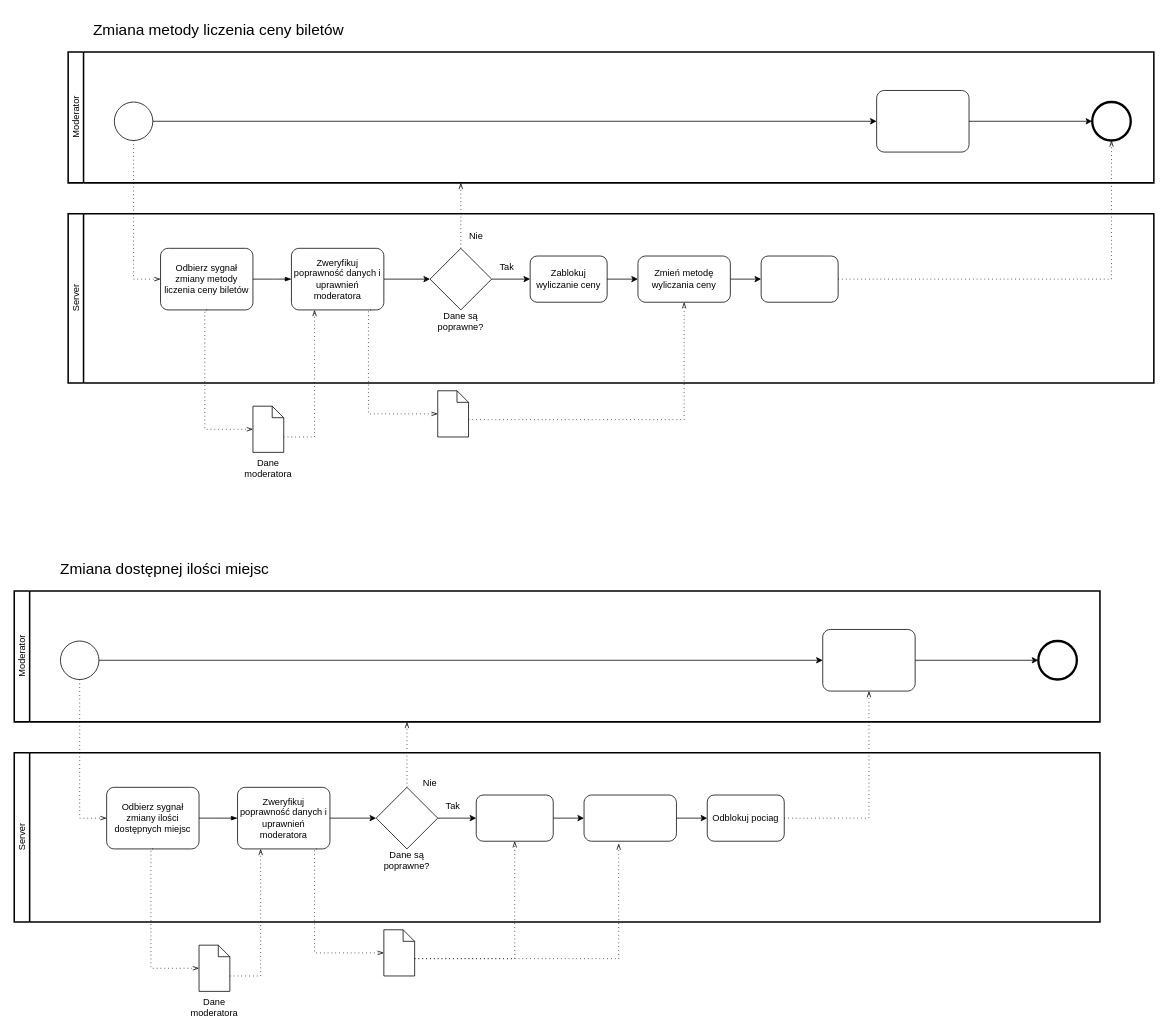
The diagram is 1167 pixels wide and 1032 high, and some of its shapes have lost their labels. The centre of each missing label's shape, as x and y in pixels:
"Nowa metoda" belongs at pixel 453 413.
"Nowe dane pociagu" belongs at pixel 399 952.
"Odblokuj wyliczanie ceny" belongs at pixel 799 278.
"Wyświetl komunikat o udanej ilości miejsc w pociagu" belongs at pixel 868 660.
"Wyświetl komunikat o udanej zmianie metody" belongs at pixel 922 121.
"Zablokuj bilety na pociag" belongs at pixel 514 817.
"Zmień ilość miejsc dla pociagu" belongs at pixel 629 817.
